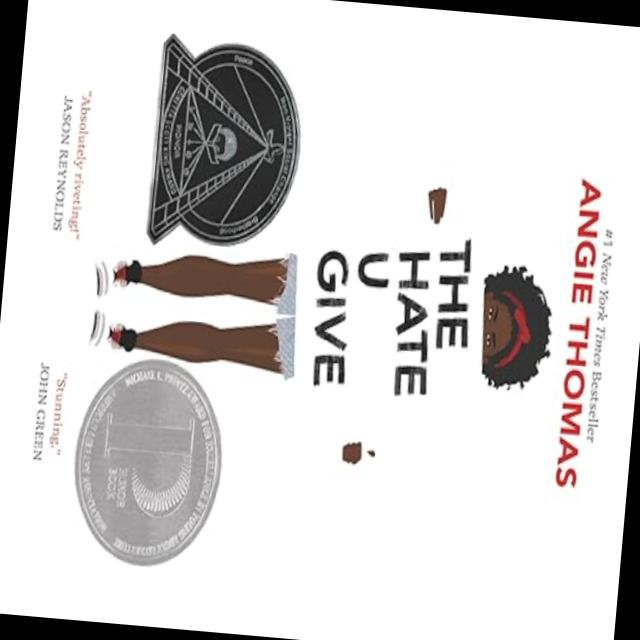titles-or-authors: (292, 210, 482, 428), (544, 169, 606, 493)
